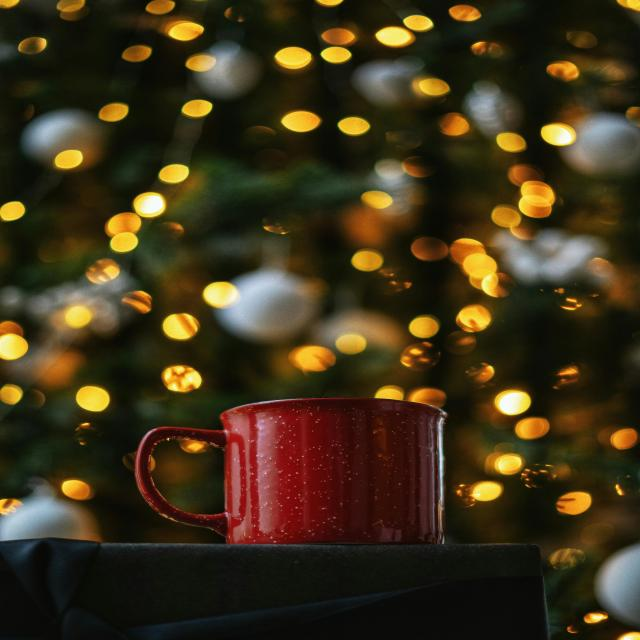Red_cup: (136, 399, 446, 543)
